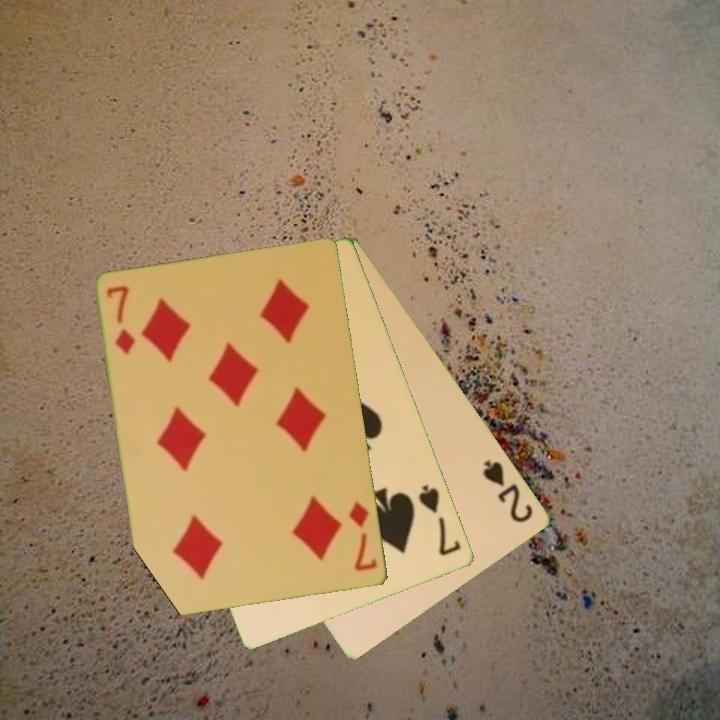2s: (480, 456, 537, 526)
7d: (345, 498, 381, 574), (103, 282, 139, 358)
7s: (415, 481, 465, 559)
